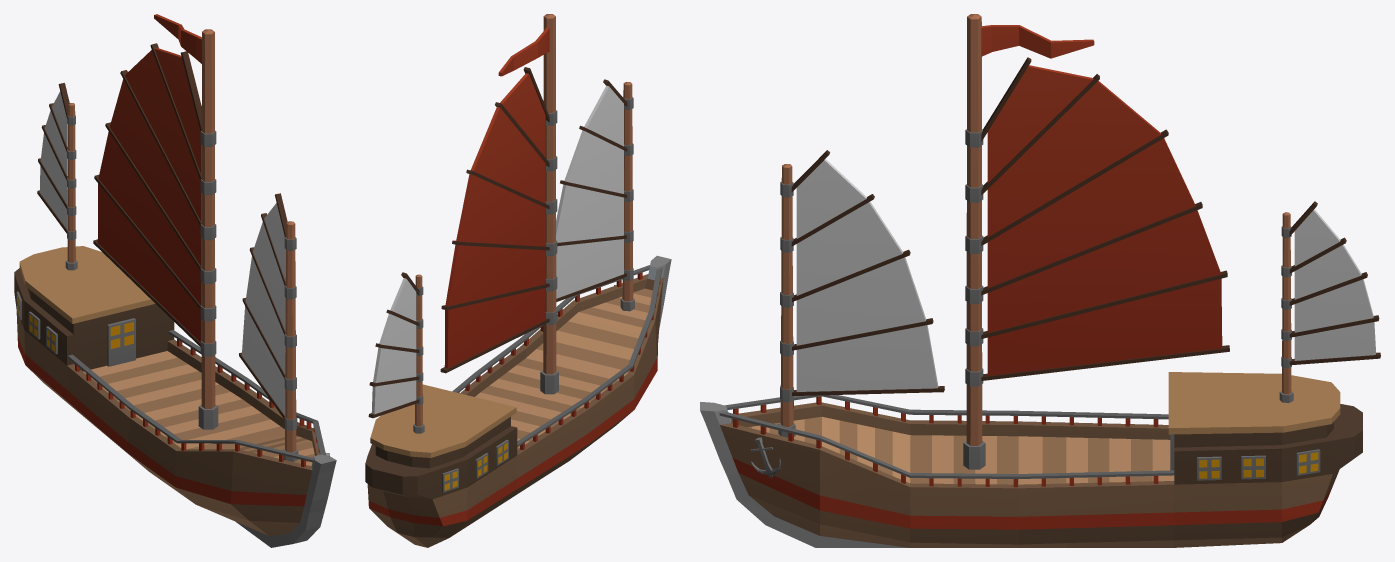
The model's file is chinese-ship-medium.glb.
3 views of the same model, side by side, from view 1: azimuth 30°, elevation 25°; view 2: azimuth 150°, elevation 25°; view 3: azimuth 270°, elevation 25° (orthographic). The views are drawn at different scales.
Parts seen in each view (by area): view 1: chinese ship medium; view 2: chinese ship medium; view 3: chinese ship medium.
Part boxes in pixels (box(x1,y1,x2,y2)): chinese ship medium: box(14, 14, 336, 547); chinese ship medium: box(365, 14, 671, 547); chinese ship medium: box(700, 14, 1380, 547).
Bounding box in the file's own units: 6.77 × 24.63 × 28.71.
Materials: 1 (1 with a texture image).
